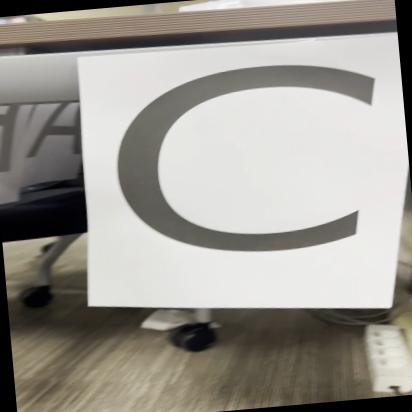seat: (91, 26, 407, 320)
